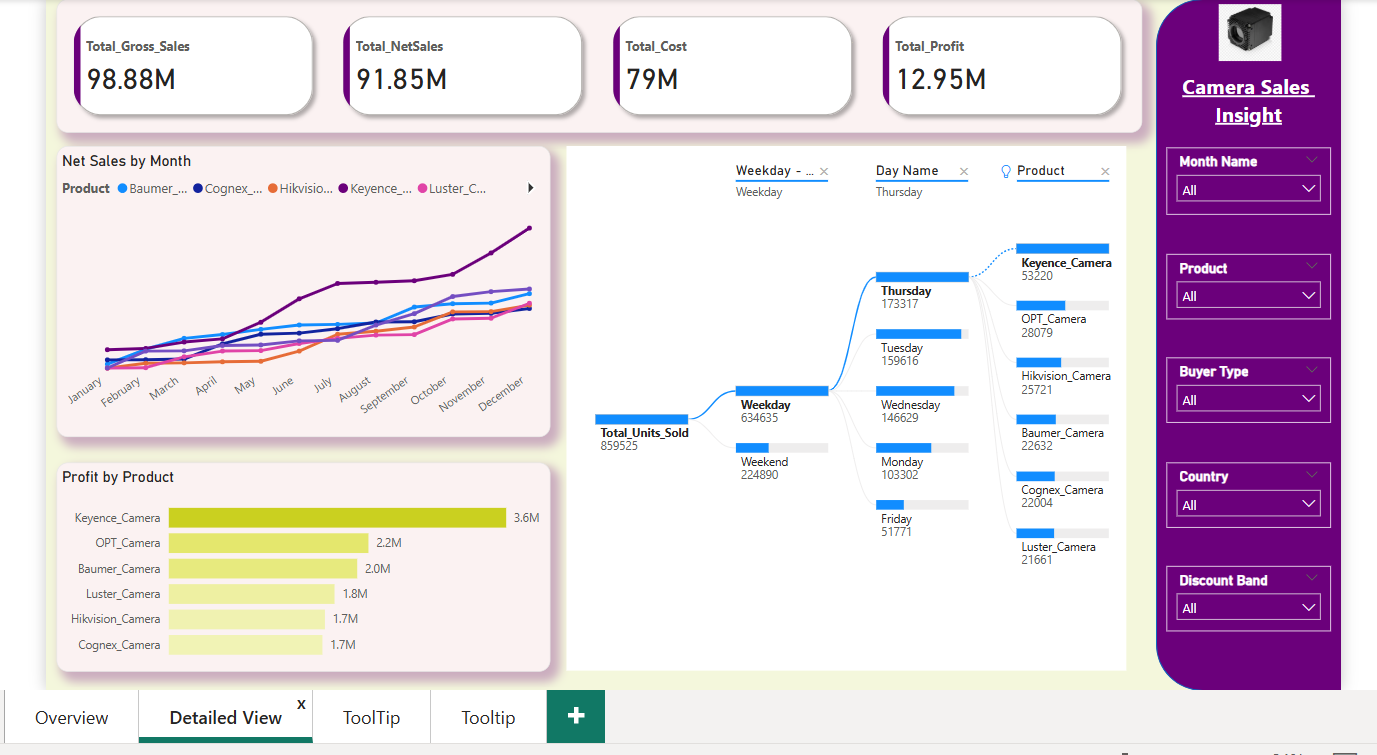

The page's visual inventory and layout, read from the dashboard file:
{"tool":"powerbi","page":{"name":"Detailed View","canvas":[1350,720],"ordinal":1},"visuals":[{"type":"shape","box":[1156.2,0,194.4,721],"z":0},{"type":"cardVisual","fields":{"Data":["Measure_.Total_Gross_Sales","Measure_.Total_NetSales","Measure_.Total_Cost","Measure_.Total_Profit"]},"box":[11.6,0,1131.3,139.5],"z":1000},{"type":"lineChart","title":"Net Sales by Month","fields":{"Category":["Calendar.Date.Variation.Date Hierarchy.Month"],"Y":["Measure_.Net_Sales_YTD"],"Series":["Mediterranean Cameras Company.Product"]},"box":[10.7,153.8,514.8,303.3],"z":2000},{"type":"barChart","title":"Profit by Product","fields":{"Category":["Mediterranean Cameras Company.Product"],"Y":["Measure_.Total_Profit"]},"box":[10.7,482.8,514.8,217.9],"z":3000},{"type":"slicer","fields":{"Values":["Calendar.Month Name"]},"box":[1167.8,154.5,171.1,69.8],"z":4000},{"type":"slicer","fields":{"Values":["Mediterranean Cameras Company.Product"]},"box":[1167.8,265,171.1,68.1],"z":5000},{"type":"slicer","fields":{"Values":["Mediterranean Cameras Company.Buyer Type"]},"box":[1167.8,373.8,171.1,68.1],"z":6000},{"type":"slicer","fields":{"Values":["Mediterranean Cameras Company.Country"]},"box":[1167.8,482.6,171.1,68.1],"z":7000},{"type":"slicer","fields":{"Values":["Mediterranean Cameras Company.Discount Band"]},"box":[1167.8,591.4,171.1,68.1],"z":8000},{"type":"image","box":[1206,0,96.4,69.8],"z":9000},{"type":"textbox","box":[1167.8,69.8,171.1,69.8],"z":10000},{"type":"decompositionTreeVisual","fields":{"Analyze":["Measure_.Total_Units_Sold"],"ExplainBy":["Calendar.Weekday - Weekend","Calendar.Day Name","Mediterranean Cameras Company.Product"]},"box":[542.6,153.8,583.1,546.8],"z":11000}]}

Visuals, with their boxes on the page's 1350x720 design canvas (x1, y1, x2, y2). These are canvas units, not pixel positions in the 1377x755 screenshot, which may show the page scaled, cropped or inside an application window:
shape: bbox=[1156, 0, 1351, 721]
cardVisual - Measure_.Total_Gross_Sales x Measure_.Total_NetSales: bbox=[12, 0, 1143, 140]
"Net Sales by Month" lineChart: bbox=[11, 154, 526, 457]
"Profit by Product" barChart: bbox=[11, 483, 526, 701]
slicer - Calendar.Month Name: bbox=[1168, 154, 1339, 224]
slicer - Mediterranean Cameras Company.Product: bbox=[1168, 265, 1339, 333]
slicer - Mediterranean Cameras Company.Buyer Type: bbox=[1168, 374, 1339, 442]
slicer - Mediterranean Cameras Company.Country: bbox=[1168, 483, 1339, 551]
slicer - Mediterranean Cameras Company.Discount Band: bbox=[1168, 591, 1339, 660]
image: bbox=[1206, 0, 1302, 70]
textbox: bbox=[1168, 70, 1339, 140]
decompositionTreeVisual - Measure_.Total_Units_Sold x Calendar.Weekday - Weekend: bbox=[543, 154, 1126, 701]
